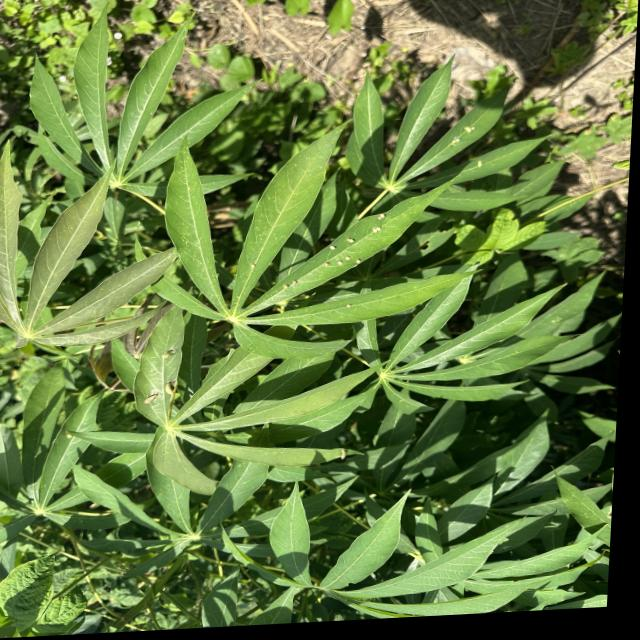Maleza: (459, 206, 539, 261)
Mosca: (324, 224, 365, 269), (275, 269, 316, 303), (446, 120, 491, 150), (369, 205, 396, 240), (155, 376, 186, 403), (138, 387, 159, 417), (155, 342, 173, 363), (470, 157, 486, 173)
